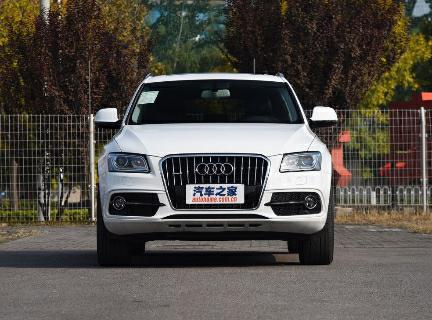奥迪-Q5: (78, 65, 347, 267)
